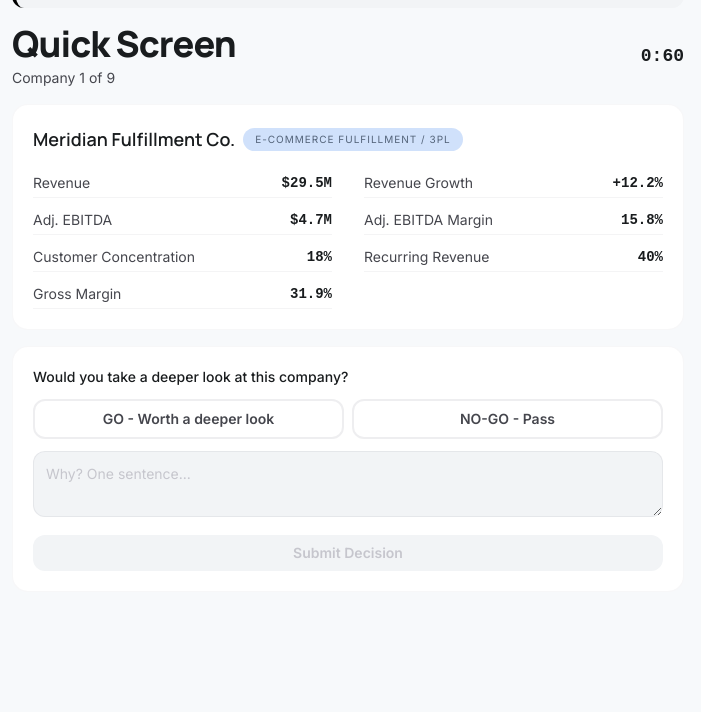
Test: QuickFireScreen › reveals red/green flags and echoes the recorded decision
Click the button "NO-GO - Pass": (508, 419) [352, 399, 663, 439]
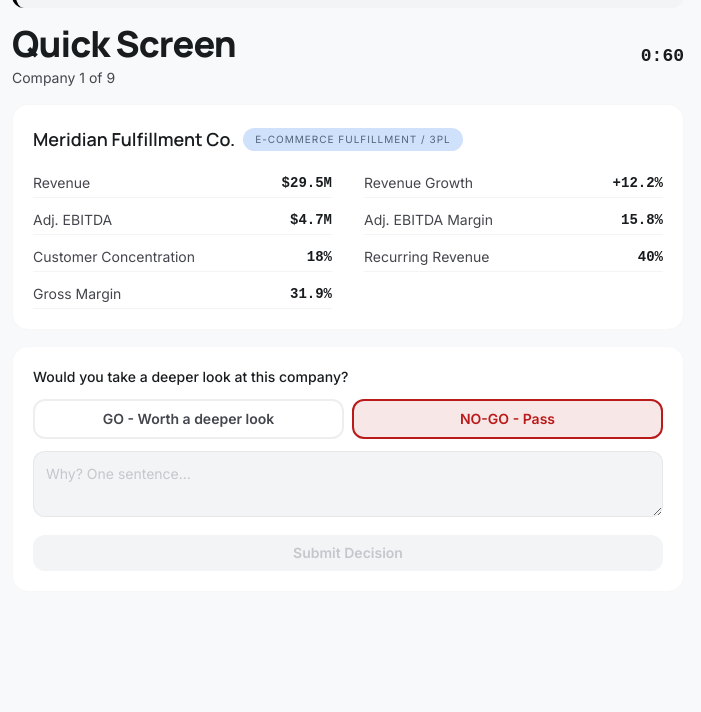
In the text box with placeholder "Why? One sentence...": (348, 484) [33, 451, 663, 517], type "Customer concentration is too high for me."
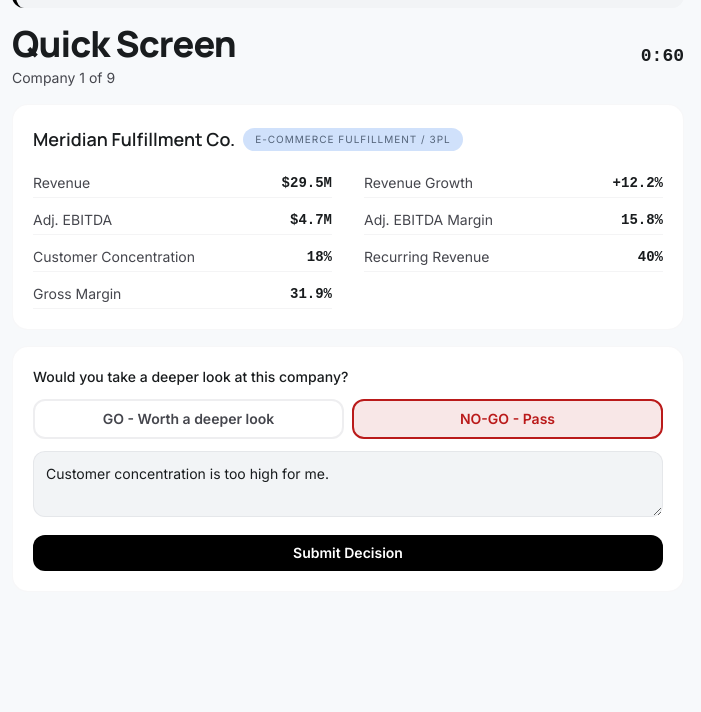
Click the button "Submit Decision": (348, 553) [33, 535, 663, 571]
(page scrolled)
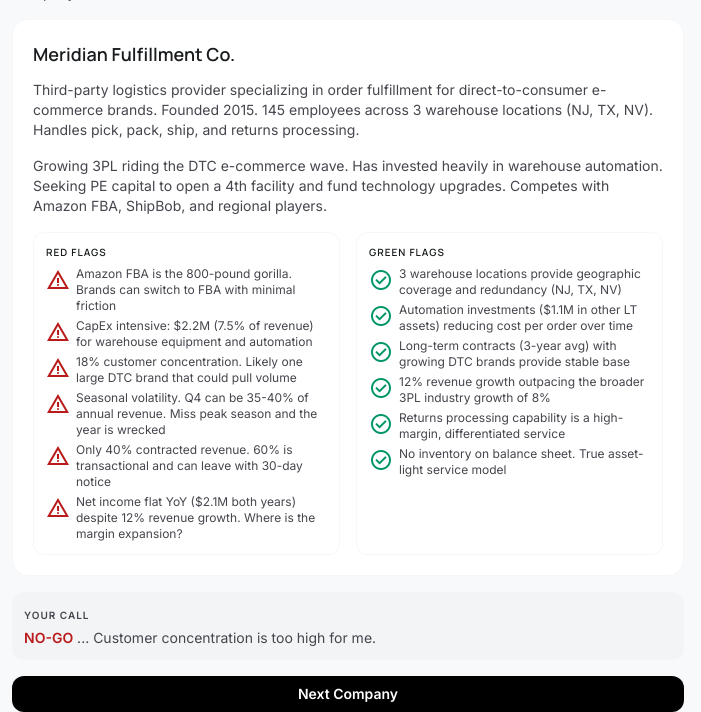
Check: the heading "Red Flags" is shown, box [46, 245, 107, 259]
Check: the heading "Green Flags" is shown, box [369, 245, 445, 259]
Check: the text "Your Call" is shown, box [24, 609, 90, 621]
